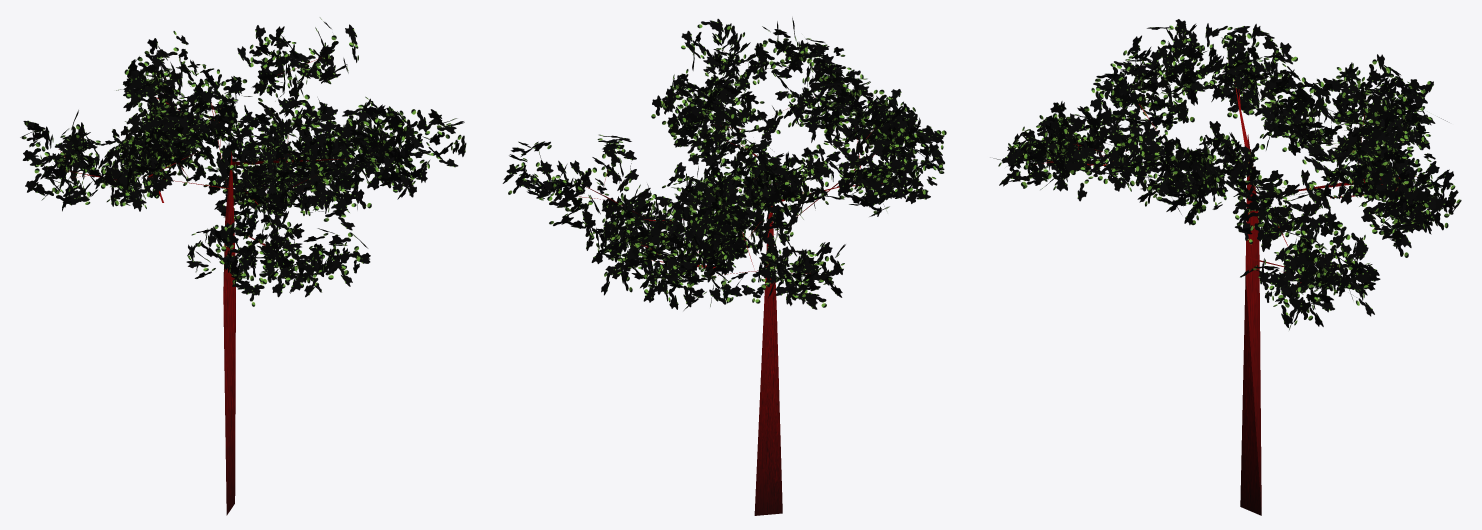
File: pine_open_v01_LOD2.glb
3 renders of one model, left to right at view 1: azimuth 30°, elevation 25°; view 2: azimuth 150°, elevation 25°; view 3: azimuth 270°, elevation 25°, orthographic. The views are drawn at different scales.
Visible parts, largest first — view 1: pine_open_v01_LOD2; view 2: pine_open_v01_LOD2; view 3: pine_open_v01_LOD2.
Boxes of the visible parts, <box> form: pine_open_v01_LOD2: <box>20,17,466,515</box>; pine_open_v01_LOD2: <box>502,17,946,515</box>; pine_open_v01_LOD2: <box>993,19,1461,515</box>.
Size of the model in its own units: 13.01 by 16.09 by 14.97.
Materials: 2 (2 with a texture image).
